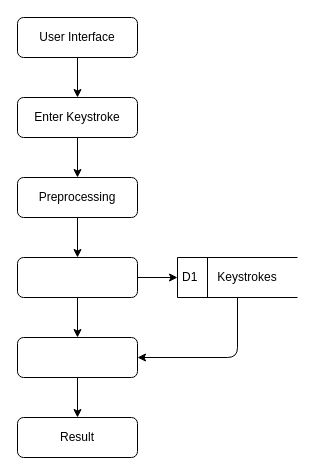
Some shapes in this 315 by 475 pixel diagram are drawn without their labels. The shapes that lost their labels are listed below. From the top down, each one's centre as x and y in pixels, then its label:
the point at 77,277: Data Store
the point at 77,357: Text Format Keystorke
